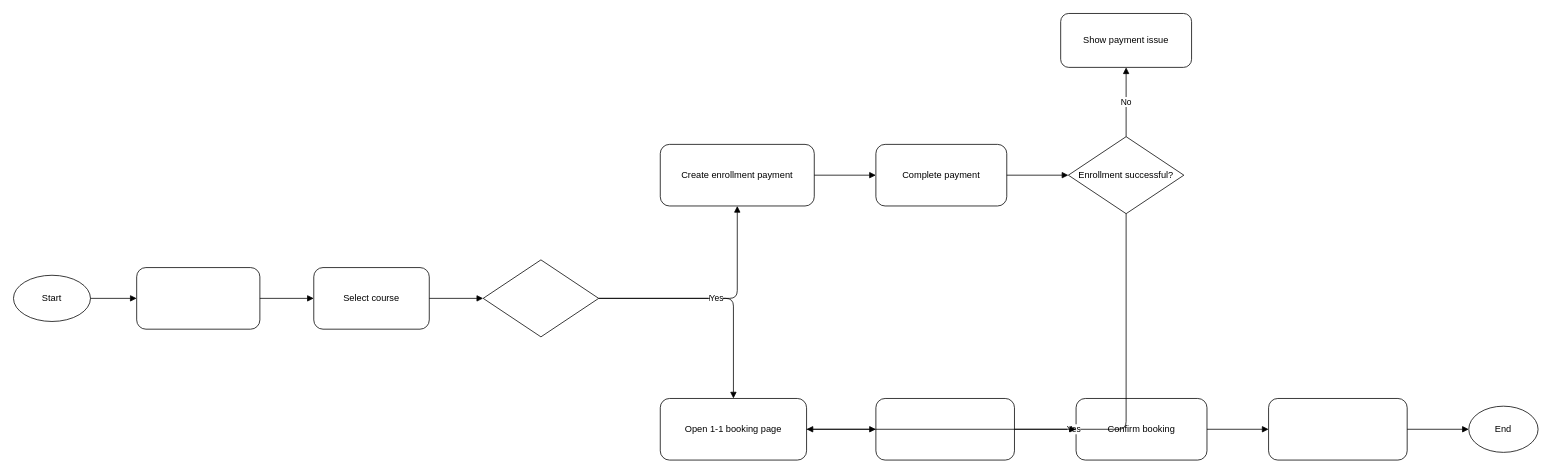
The diagram is 1552 pixels wide and 474 high, and some of its shapes have lost their labels. The box of each missing label's shape, as (x1, y1, x2, y2) in pixels:
Already enrolled?: (482, 259, 599, 337)
Open Courses page: (136, 267, 260, 329)
Select available slot: (875, 398, 1014, 460)
View booking details: (1268, 398, 1407, 460)
